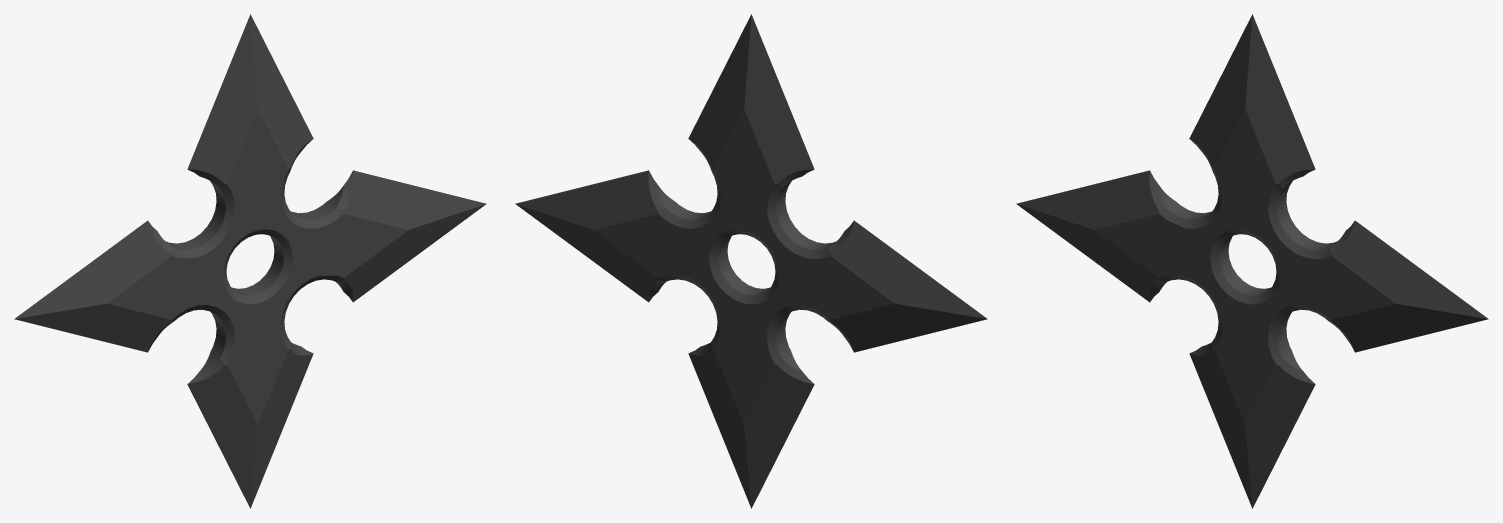
File: shuriken.glb
The picture shows the model from 3 angles, left to right: view 1: azimuth 30°, elevation 25°; view 2: azimuth 150°, elevation 25°; view 3: azimuth 330°, elevation 25°; orthographic projection.
Visible parts, largest first — view 1: Shuriken_0; view 2: Shuriken_0; view 3: Shuriken_0.
Boxes of the visible parts, x1=… form: Shuriken_0: x1=14, y1=14, x2=486, y2=508; Shuriken_0: x1=515, y1=14, x2=987, y2=508; Shuriken_0: x1=1016, y1=14, x2=1488, y2=508.
Bounding box in the file's own units: 0.1596 × 0.1596 × 0.0086.
Materials: 1 (1 with a texture image).
